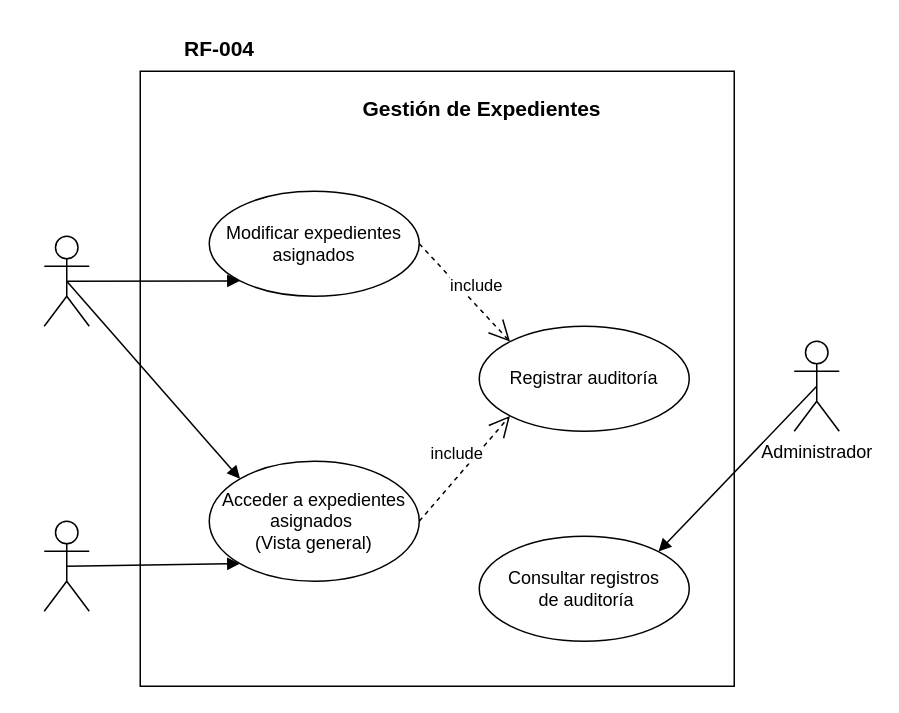
Some shapes in this 899 by 713 pixel diagram are drawn without their labels. The shapes that lost their labels are listed below. From the top down, each one's centre as x and y in pixels, then its label:
At pixel 66 280: "Terapeuta".
At pixel 66 565: "Secretaria".
